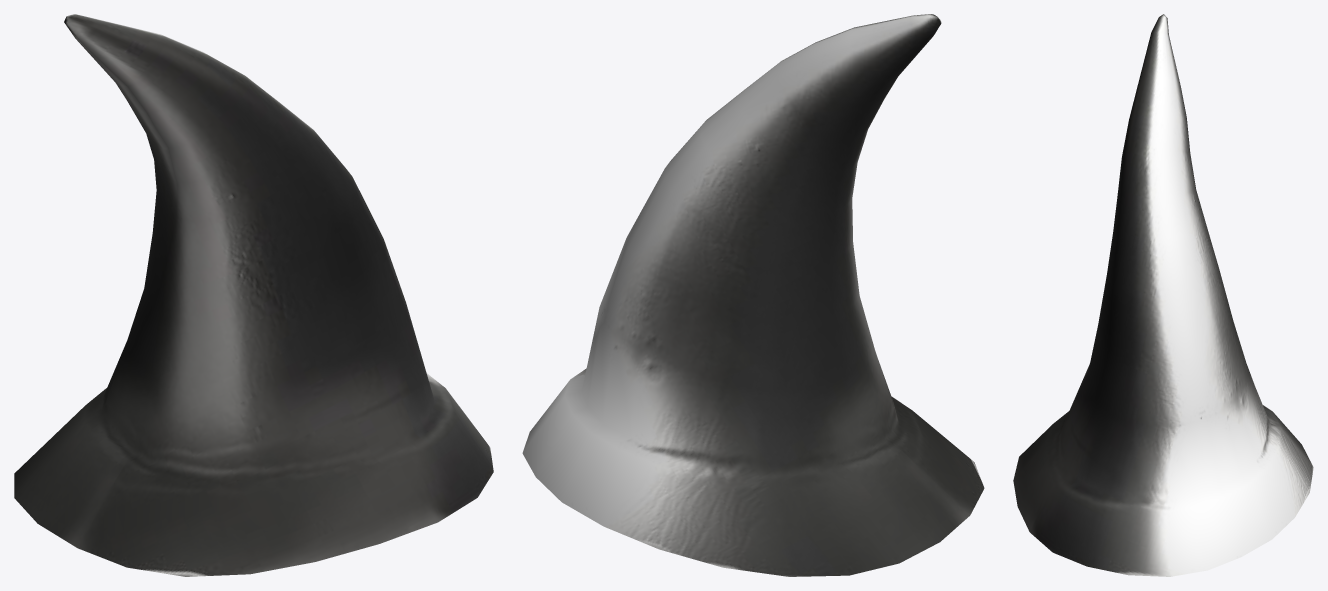
Rendered from Shark-Flipper.fbx.
3 views of the same model, side by side, from view 1: azimuth 30°, elevation 25°; view 2: azimuth 150°, elevation 25°; view 3: azimuth 270°, elevation 25° (orthographic). The views are drawn at different scales.
Visible parts, largest first — view 1: Art-Shark; view 2: Art-Shark; view 3: Art-Shark.
Part boxes in pixels (x1,y1,x2,y2): Art-Shark: (14, 14, 493, 576); Art-Shark: (522, 14, 984, 576); Art-Shark: (1013, 14, 1313, 576).
Size of the model in its own units: 0.1521 by 0.1774 by 0.1184.
